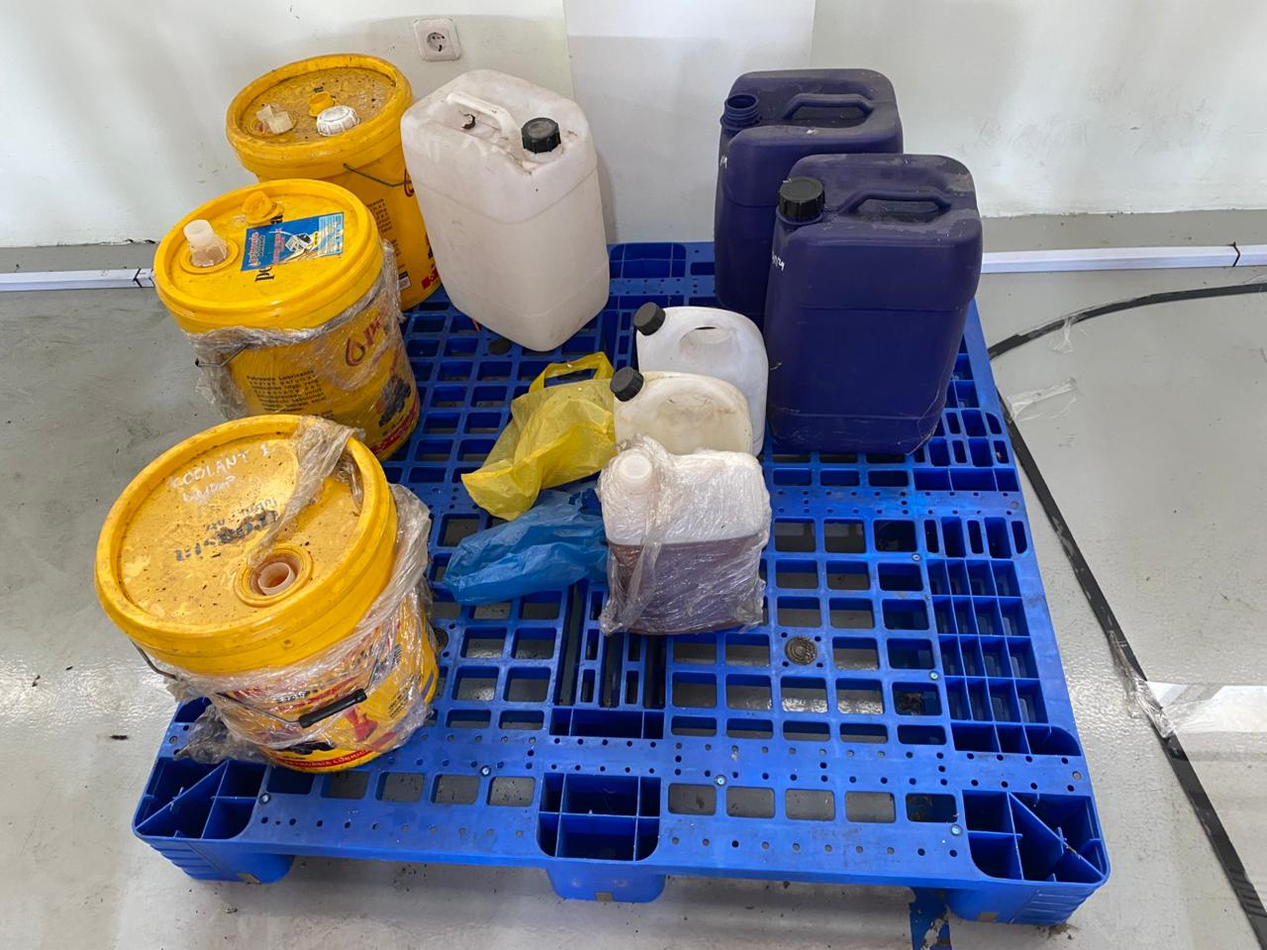block: (949, 874, 1102, 931), (135, 838, 288, 885), (546, 857, 657, 907)
front: (137, 832, 1107, 929)
hole pallet: (657, 877, 965, 921), (272, 855, 553, 901)
